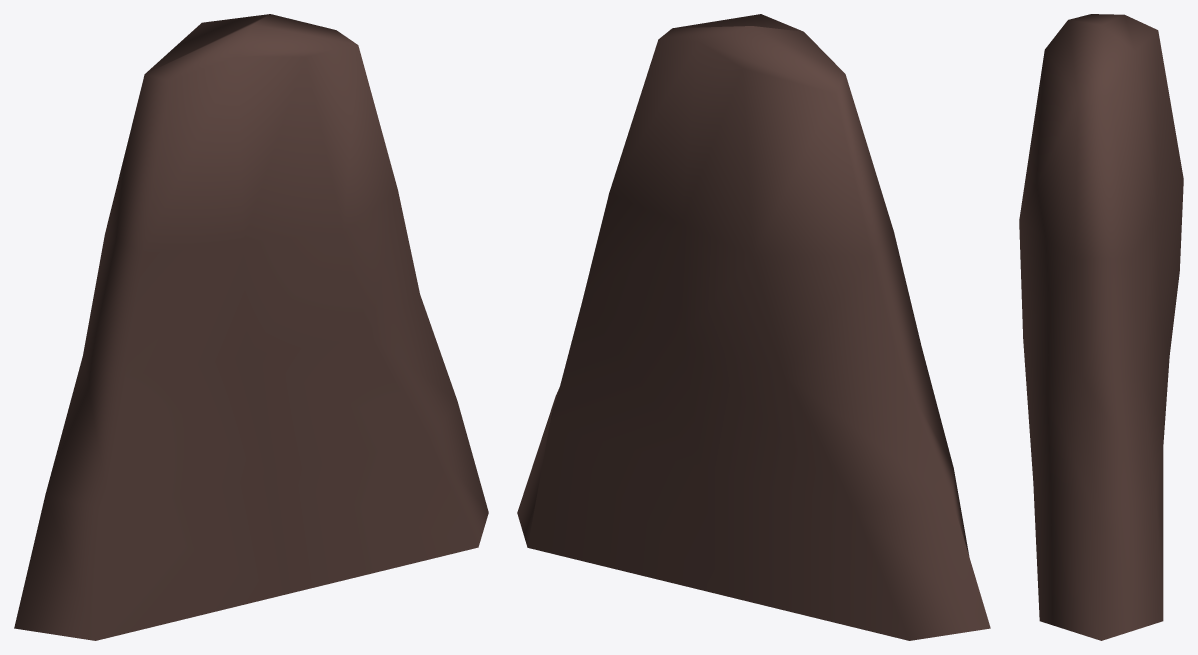
The model's file is Rock one.fbx.
3 renders of one model, left to right at view 1: azimuth 30°, elevation 25°; view 2: azimuth 150°, elevation 25°; view 3: azimuth 270°, elevation 25°, orthographic. The views are drawn at different scales.
Visible parts, largest first — view 1: Rock; view 2: Rock; view 3: Rock.
Boxes of the visible parts, bbox=[...] form: Rock: bbox=[14, 14, 488, 640]; Rock: bbox=[517, 14, 990, 640]; Rock: bbox=[1019, 14, 1183, 640].
Size of the model in its own units: 2786 by 3061 by 898.
